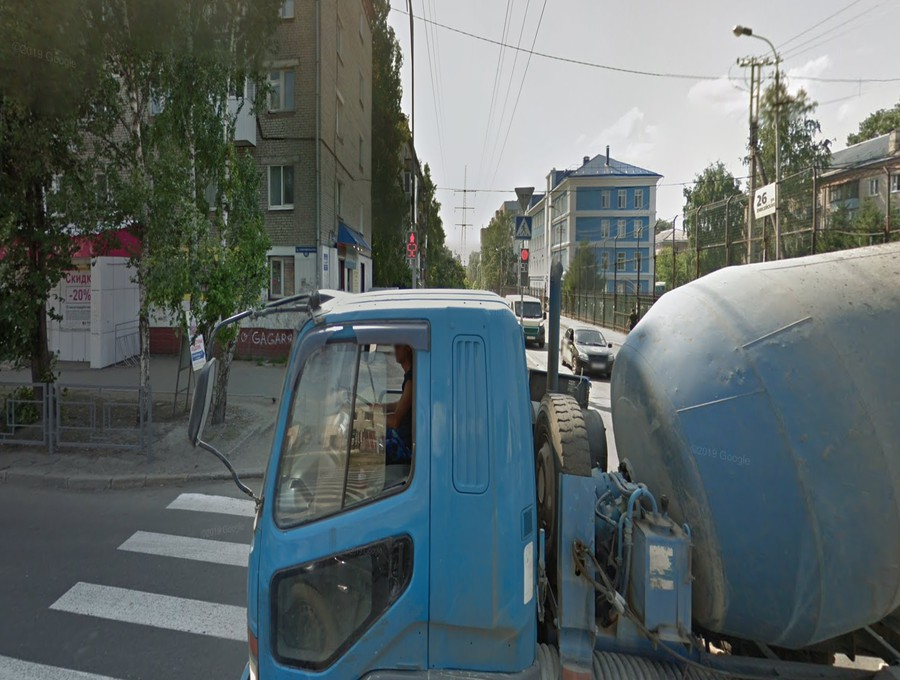Traffic Light-red: (406, 230, 419, 263)
